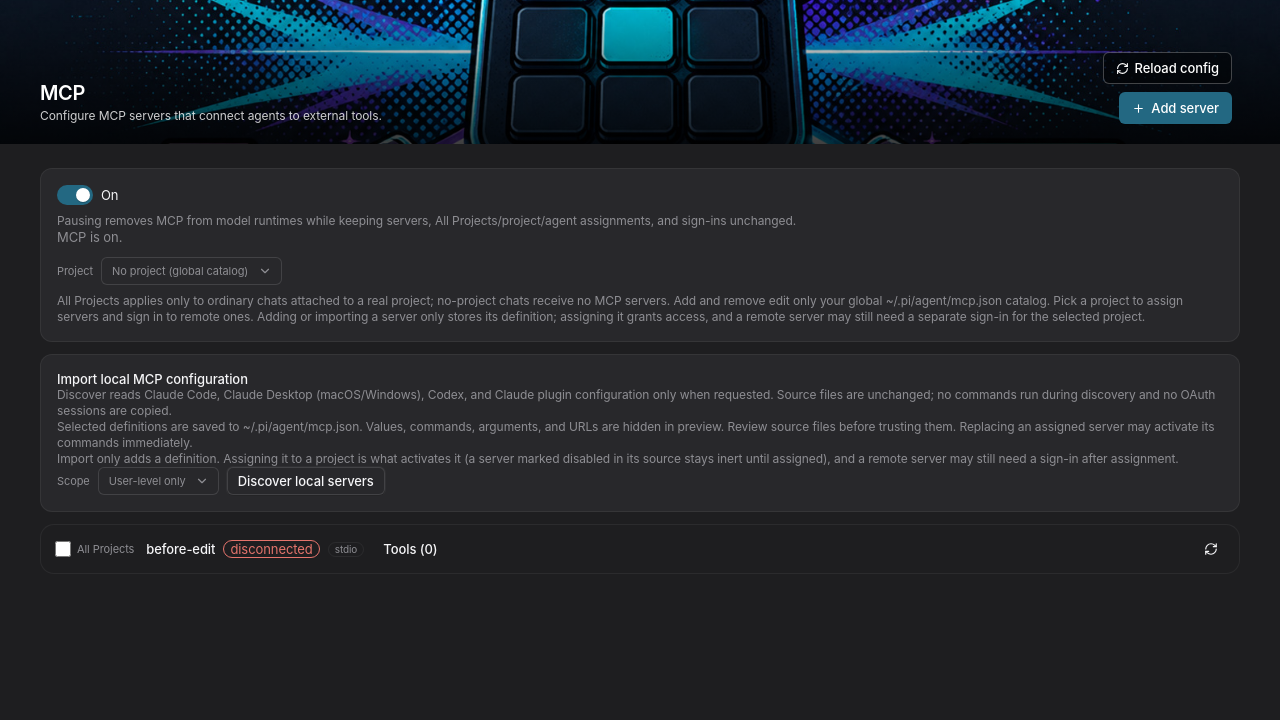
MCP configuration reload › explicitly reloads disk configuration and replaces the visible catalog
The width and height of the screenshot is (1280, 720).
Check: the element with test id "mcp-before-edit" is shown, box [40,524,1240,574]
Click the button with test id "mcp-reload" at (1167, 68), box [1102,52,1232,84]
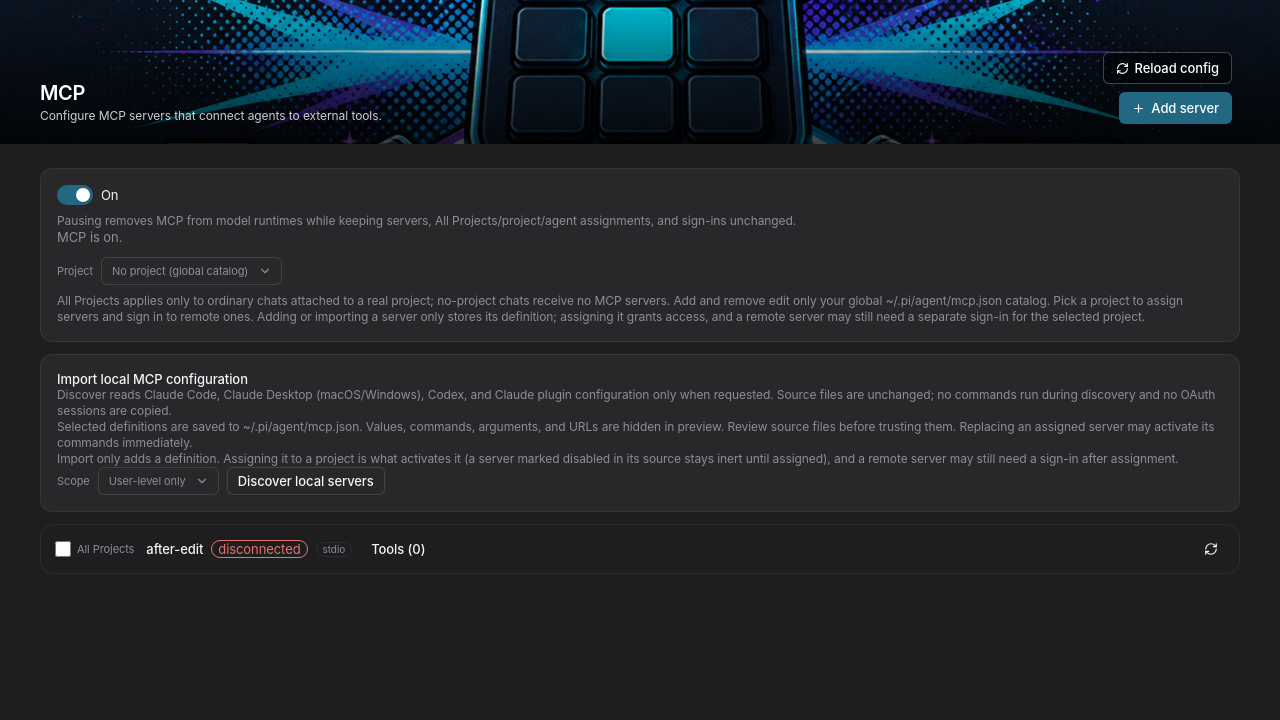
Check: the element with test id "mcp-before-edit" is gone
Check: the element with test id "mcp-after-edit" is shown, box [40,524,1240,574]
